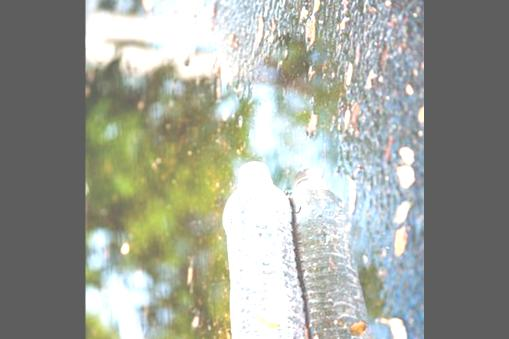bottle: (218, 158, 309, 339)
